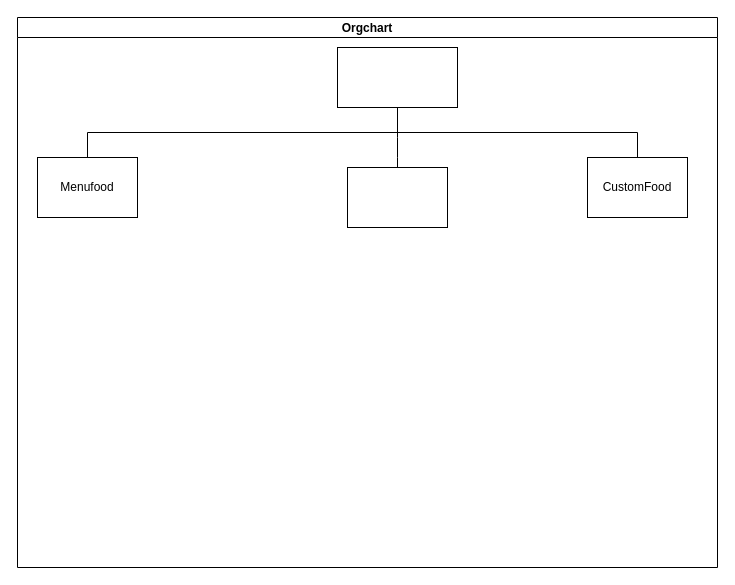
This 735x585 diagram has some shape labels left out. The shapes that lost their labels are listed below. From the top down, each one's centre as x and y in pixels, then its label:
At pixel 397 77: "food".
At pixel 397 197: "Extra".
